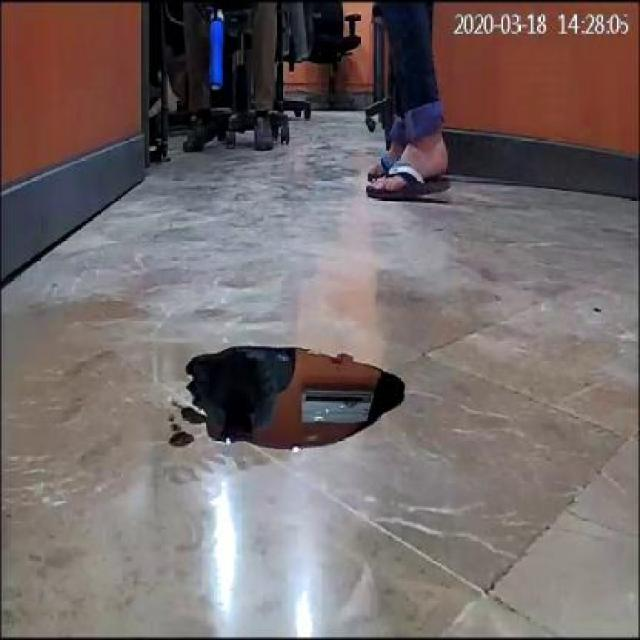spill: (183, 345, 409, 447)
